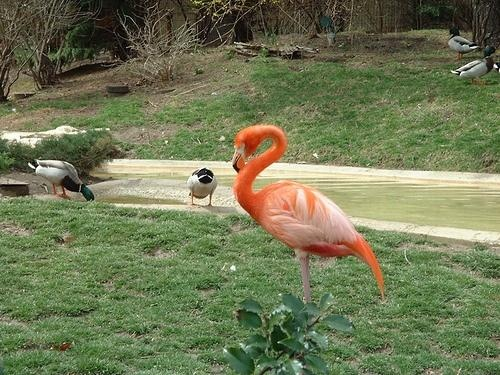bird: (230, 122, 388, 307), (26, 154, 97, 206), (450, 45, 500, 87), (187, 167, 220, 211), (447, 24, 485, 61)
